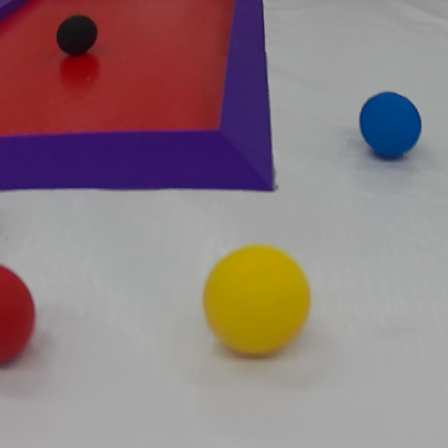black: (56, 12, 101, 56)
blue: (357, 88, 429, 169)
red: (2, 260, 44, 370)
red_aim: (0, 0, 286, 202)
yellow: (193, 243, 316, 363)
